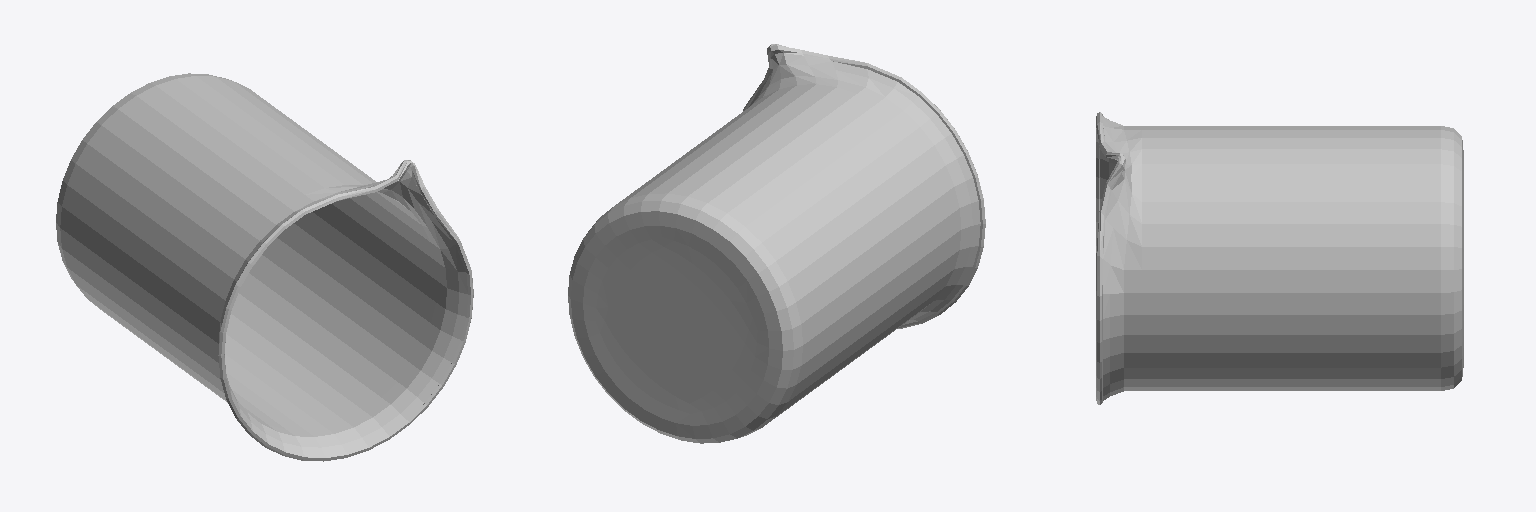
The model's file is beaker.obj.
3 views of the same model, side by side, from view 1: azimuth 30°, elevation 25°; view 2: azimuth 150°, elevation 25°; view 3: azimuth 270°, elevation 25° (orthographic).
Parts seen in each view (by area): view 1: beaker-1; view 2: beaker-1; view 3: beaker-1.
Part boxes in pixels (left/top/right/bottom): beaker-1: left=56, top=73, right=473, bottom=461; beaker-1: left=568, top=44, right=985, bottom=443; beaker-1: left=1096, top=112, right=1463, bottom=404.
Size of the model in its own units: 0.1075 by 0.1095 by 0.1339.